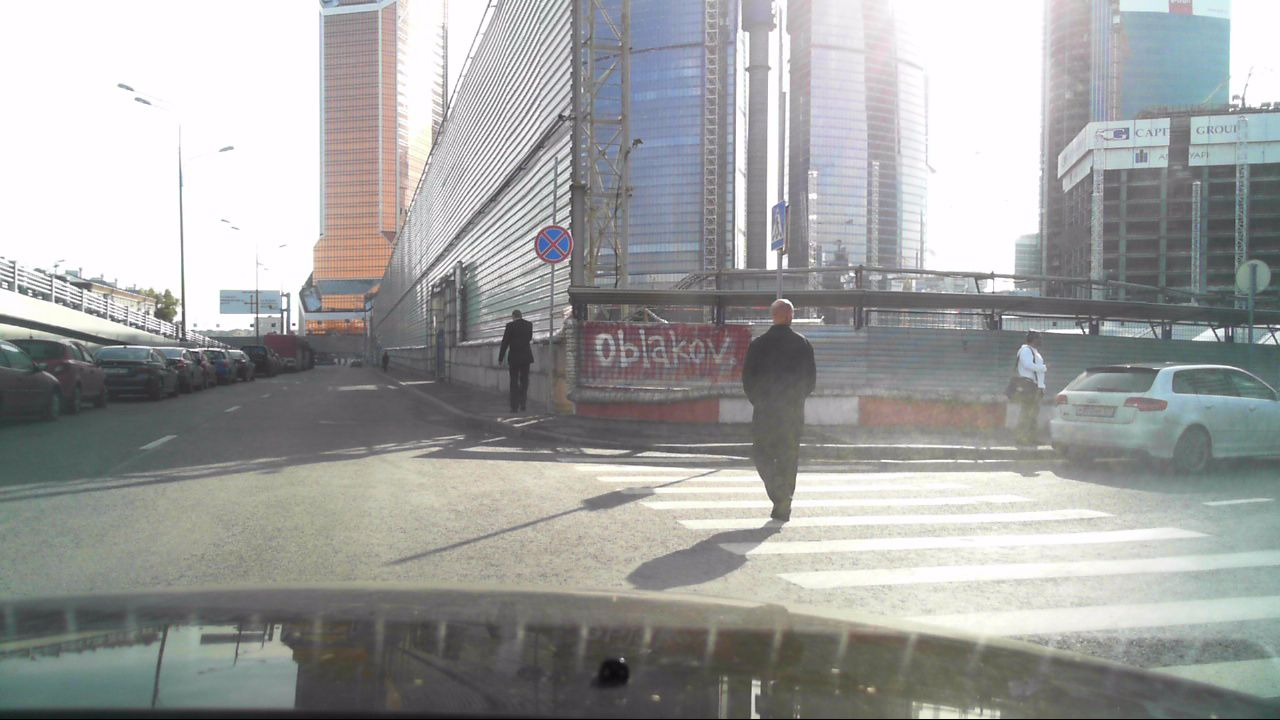No Parking: (532, 224, 575, 266)
